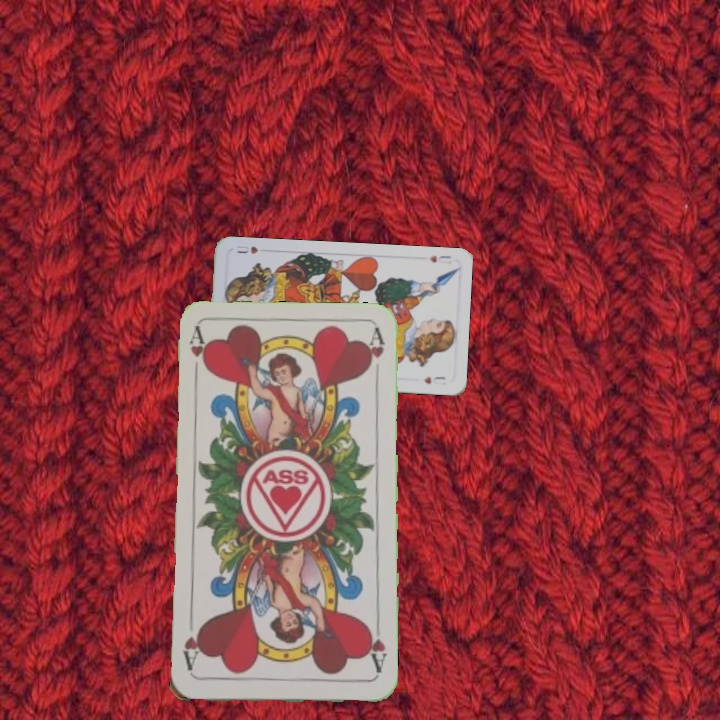HA: (363, 618, 390, 676), (185, 325, 207, 384)
HU: (425, 251, 453, 266)
